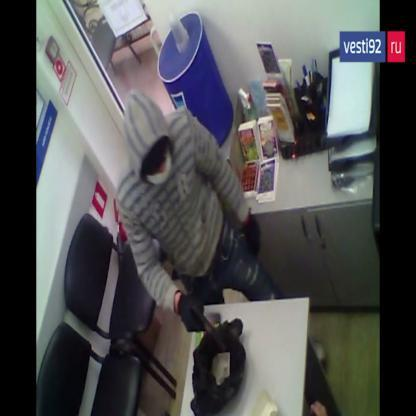pistols: (174, 290, 224, 349)
